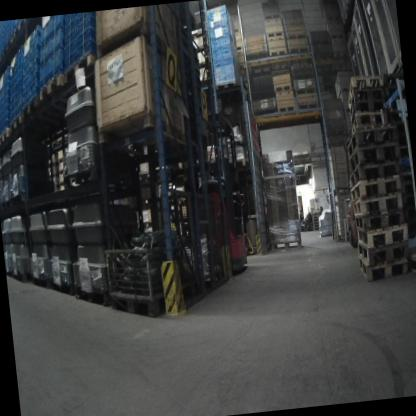forklift: (188, 109, 249, 278), (337, 134, 362, 249)
pallet: (345, 124, 400, 160), (36, 70, 78, 114), (346, 141, 400, 175), (348, 159, 400, 189), (349, 174, 402, 203), (356, 220, 409, 249), (359, 252, 409, 282), (59, 49, 99, 86), (345, 73, 385, 109), (352, 191, 404, 217), (358, 237, 409, 263), (347, 87, 385, 119), (354, 208, 405, 231), (73, 277, 109, 308), (348, 97, 384, 127), (62, 165, 101, 191), (349, 111, 385, 135), (50, 274, 75, 297), (29, 268, 52, 290), (270, 238, 302, 252), (20, 97, 39, 120), (7, 114, 24, 134), (323, 14, 343, 31), (12, 266, 31, 283), (11, 18, 27, 38), (0, 36, 15, 57), (287, 43, 310, 55), (315, 49, 336, 62), (320, 0, 337, 16), (294, 85, 316, 96), (296, 100, 318, 111), (246, 50, 268, 61), (286, 31, 307, 42), (262, 9, 283, 20), (215, 80, 238, 90), (0, 126, 11, 145), (232, 157, 248, 170), (10, 193, 26, 206), (253, 107, 277, 115), (276, 103, 295, 113), (266, 29, 285, 39), (333, 49, 350, 60), (273, 82, 291, 92), (268, 47, 286, 57), (329, 32, 347, 40), (0, 199, 12, 211), (341, 9, 349, 25), (5, 264, 14, 277), (196, 43, 204, 54), (192, 30, 203, 38), (345, 0, 353, 11), (238, 61, 246, 71), (198, 60, 206, 69), (236, 45, 244, 53), (234, 26, 241, 34), (311, 211, 322, 216), (0, 55, 3, 72), (312, 217, 319, 222), (313, 226, 320, 231), (312, 220, 319, 224), (312, 223, 319, 227), (311, 215, 319, 218)
pallet_truck: (234, 192, 254, 256), (304, 206, 313, 230)
small_load_carrier: (235, 185, 254, 256), (45, 27, 67, 58), (46, 47, 66, 79), (36, 35, 55, 66), (36, 58, 54, 89), (47, 14, 67, 35), (38, 18, 54, 42), (223, 66, 237, 81), (219, 33, 231, 48), (218, 21, 230, 36), (222, 55, 235, 68), (220, 44, 233, 57), (214, 68, 226, 82), (217, 12, 229, 25), (213, 57, 225, 70), (211, 46, 223, 59), (210, 35, 222, 48), (209, 24, 221, 37), (206, 7, 219, 19), (216, 4, 228, 16), (208, 18, 219, 27)
stillage: (104, 239, 200, 321), (199, 232, 225, 284)
